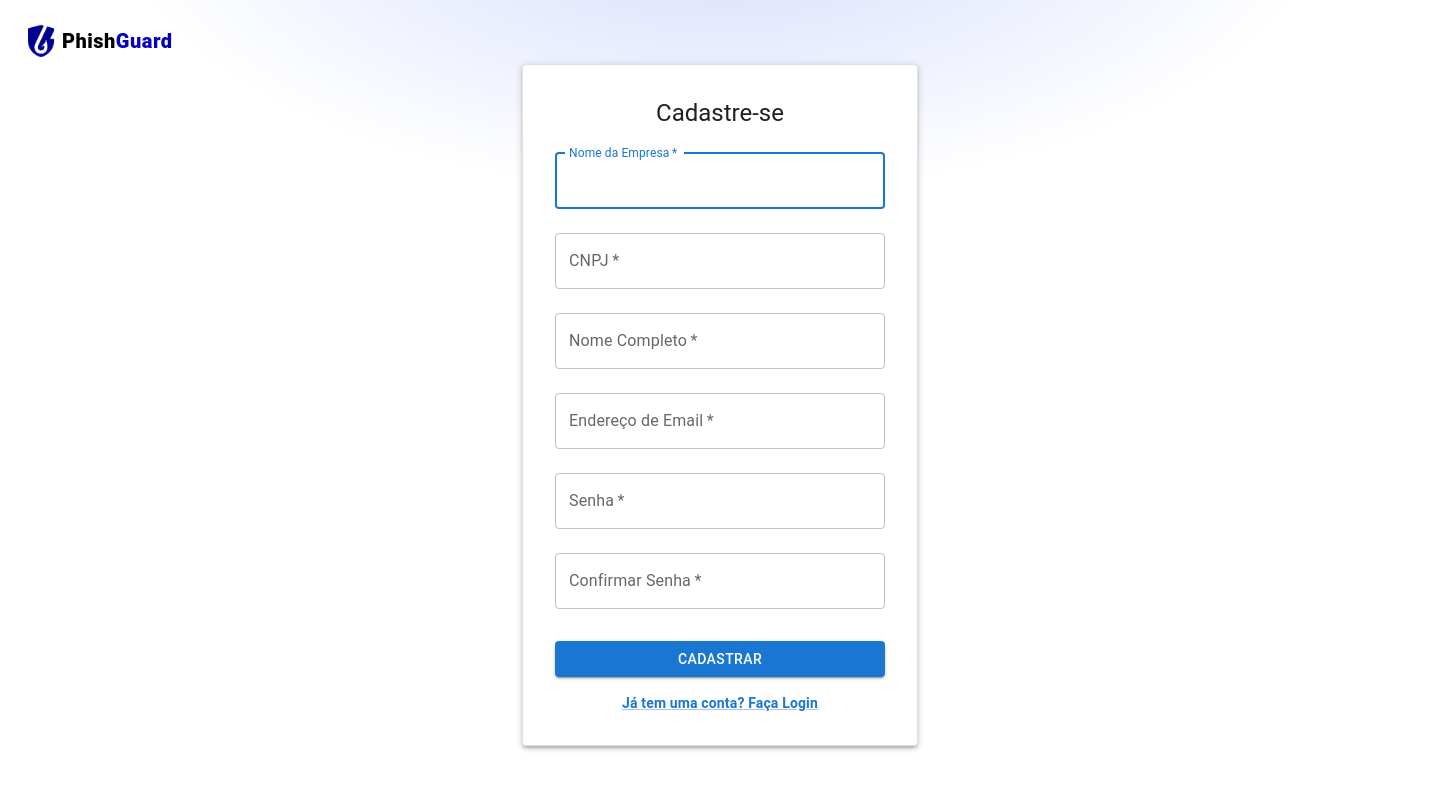
it: Register — falhas da API › não expõe o corpo de uma falha interna
This screenshot has width=1440, height=810.
Type "Empresa Teste" into the field labelled "Nome da Empresa *". click: (720, 181)
box: [555, 153, 885, 209]
Type "12345678000199" into the field labelled "CNPJ *". click: (720, 261)
box: [555, 233, 885, 289]
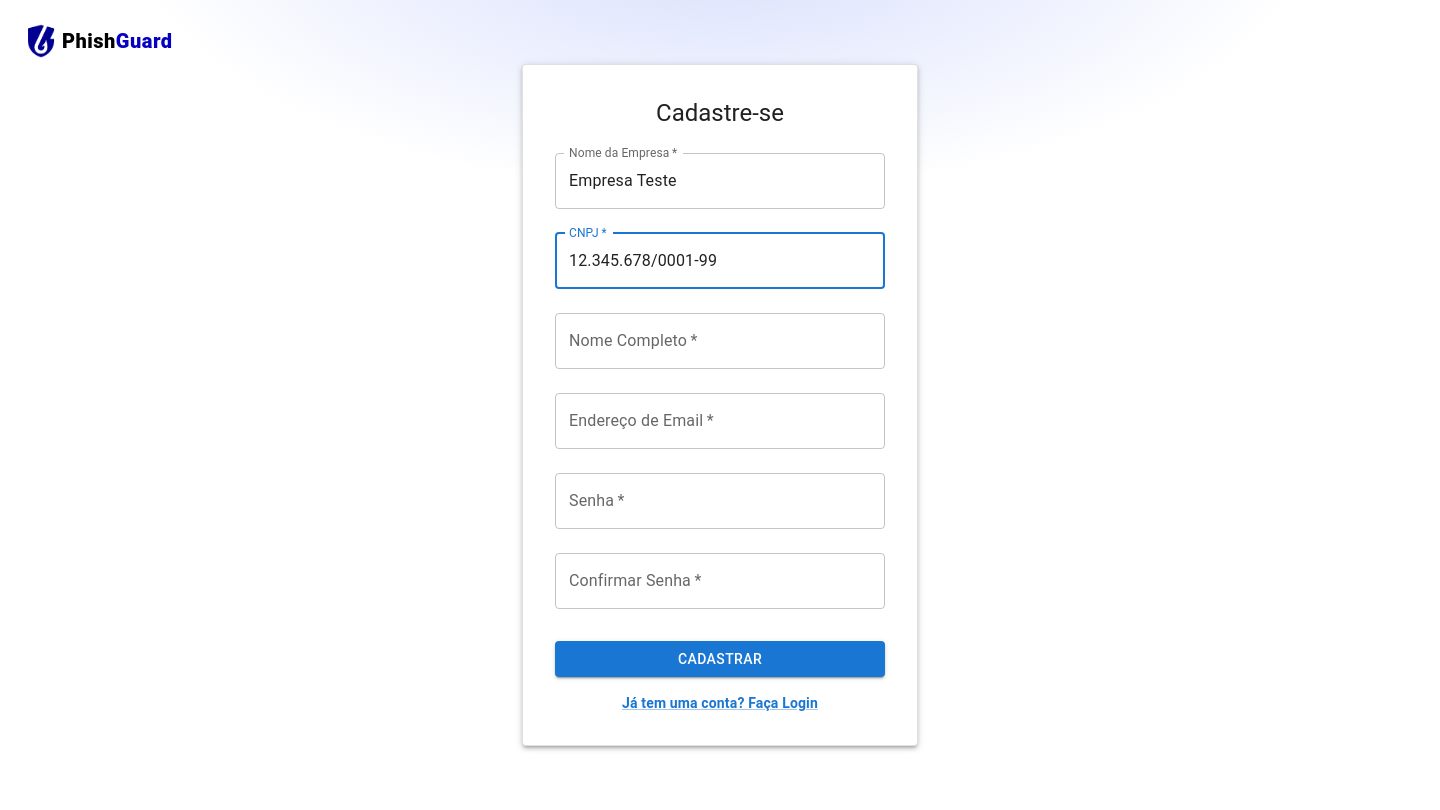
Type "Fulano de Tal" into the field labelled "Nome Completo *". click: (720, 341)
box: [555, 313, 885, 369]
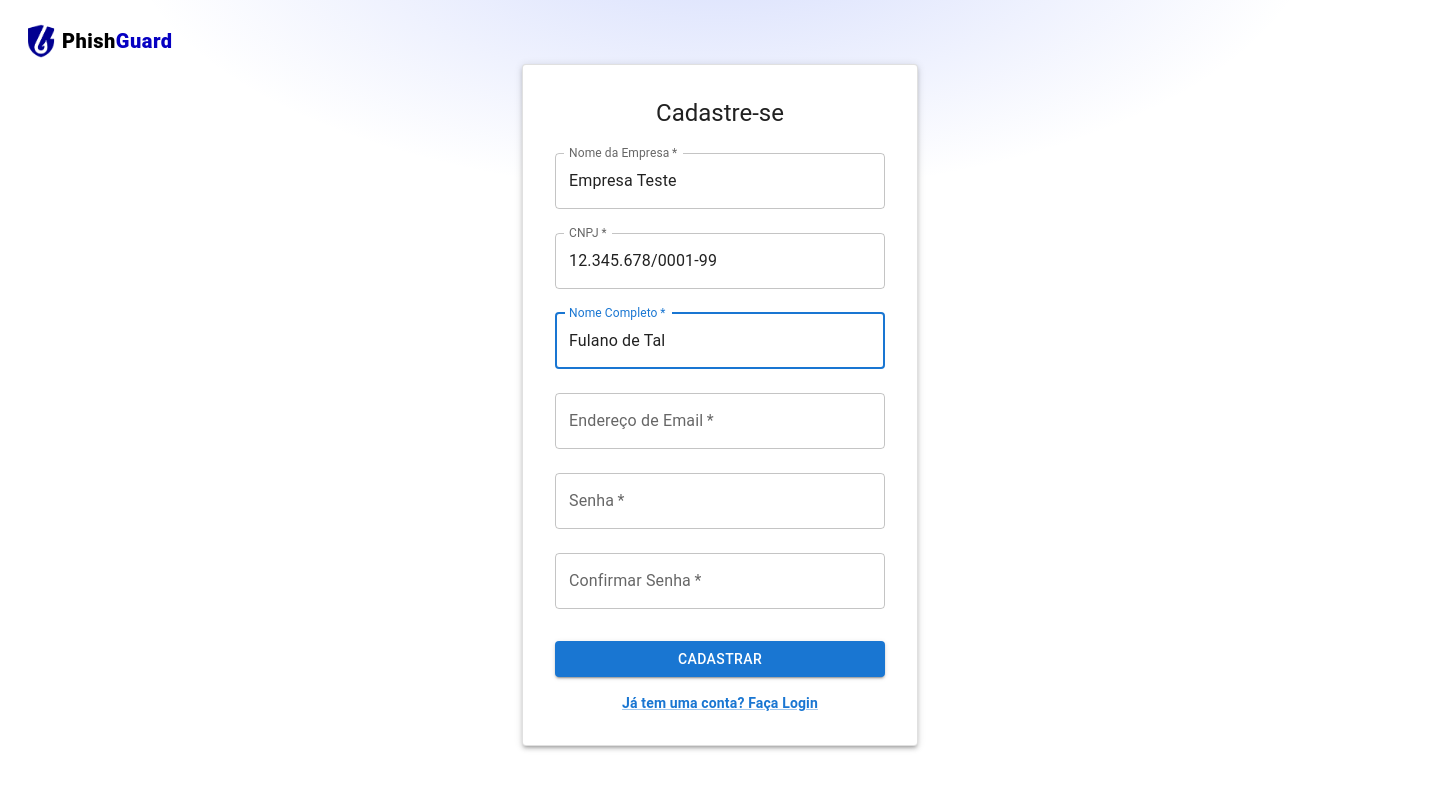
Type "fulano@teste.com" into the field labelled "Endereço de Email *". click: (720, 421)
box: [555, 393, 885, 449]
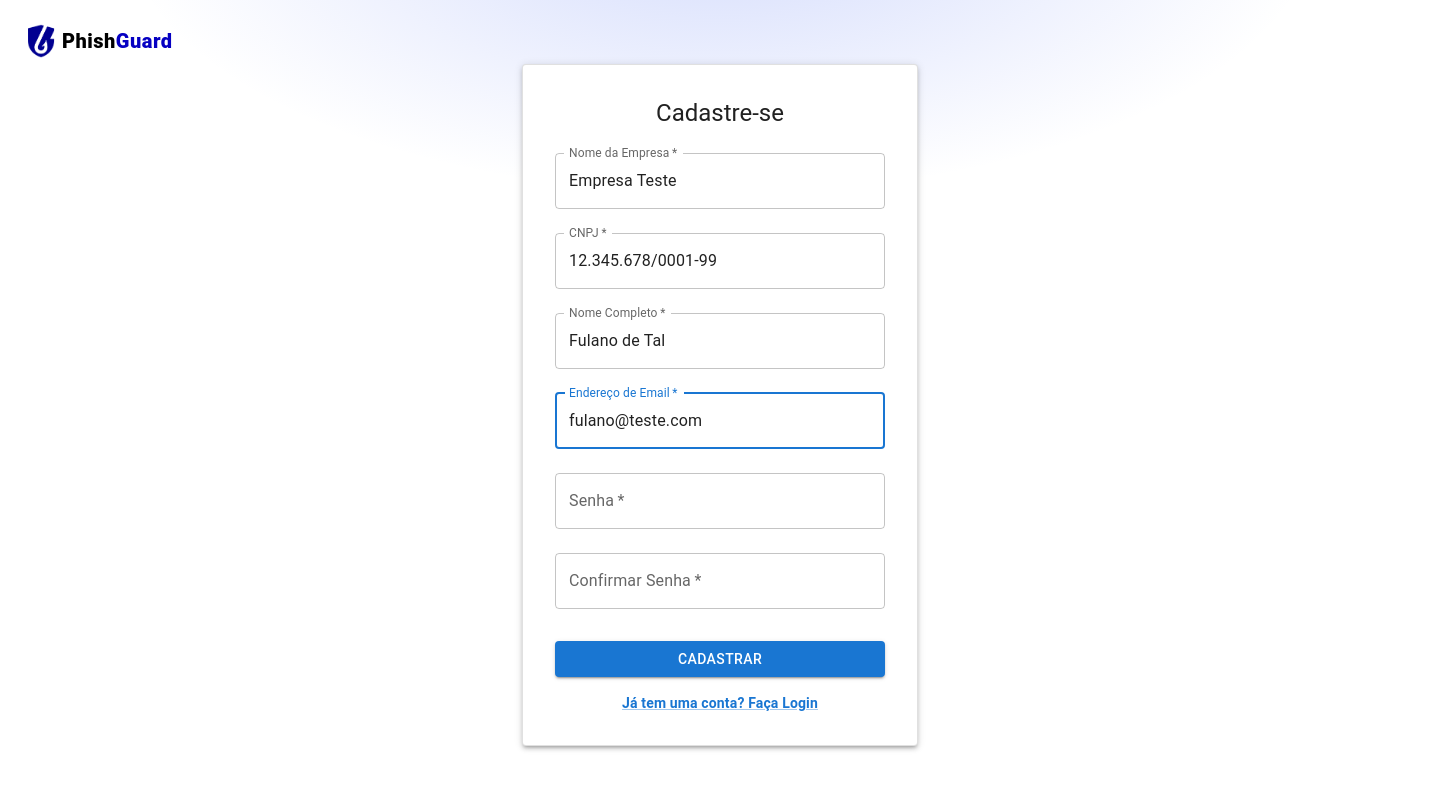
Type "senha123" into the password field labelled "Senha *". click: (720, 501)
box: [555, 473, 885, 529]
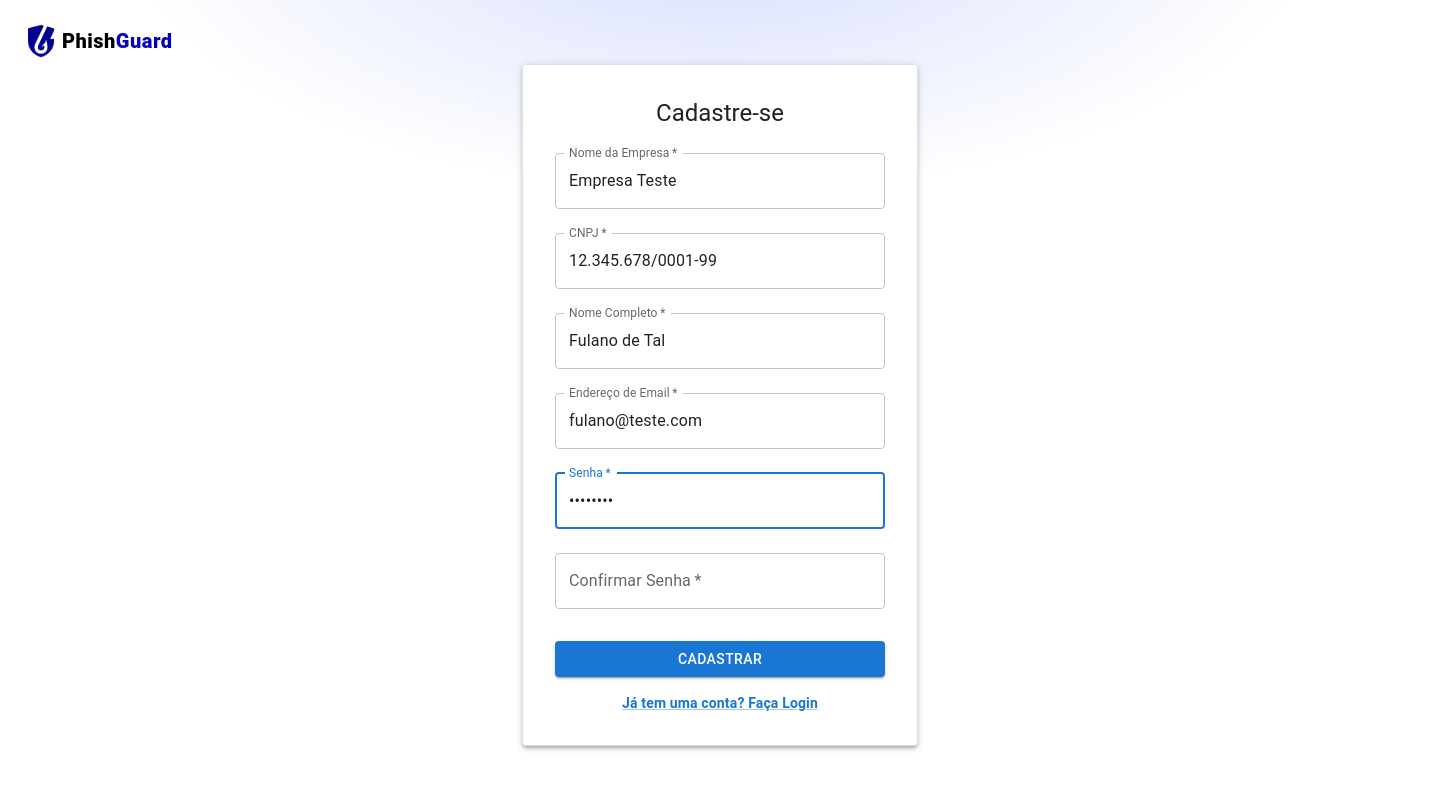
Type "senha123" into the password field labelled "Confirmar Senha *". click: (720, 581)
box: [555, 553, 885, 609]
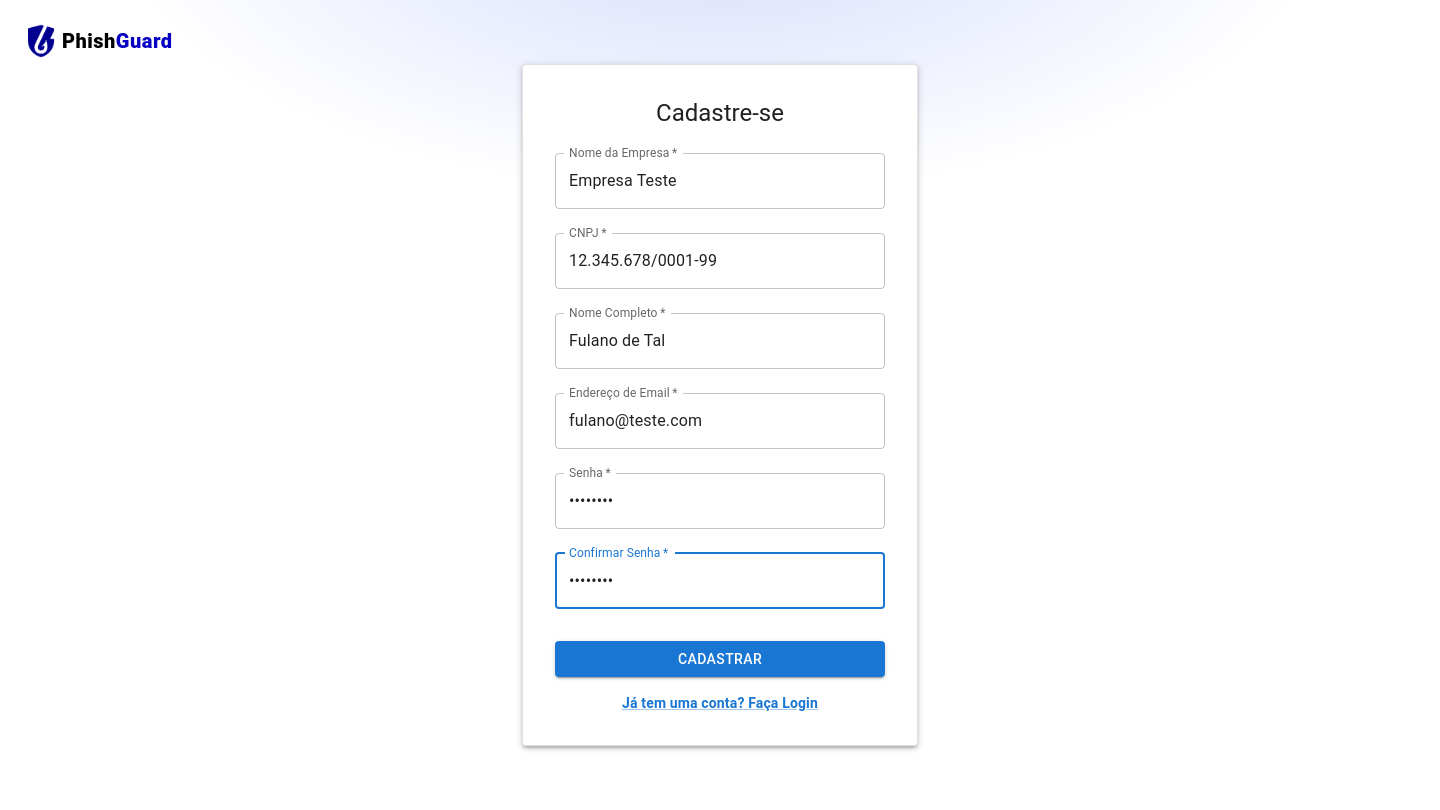
Click the button "CADASTRAR". click: (720, 659)
box: [555, 641, 885, 677]
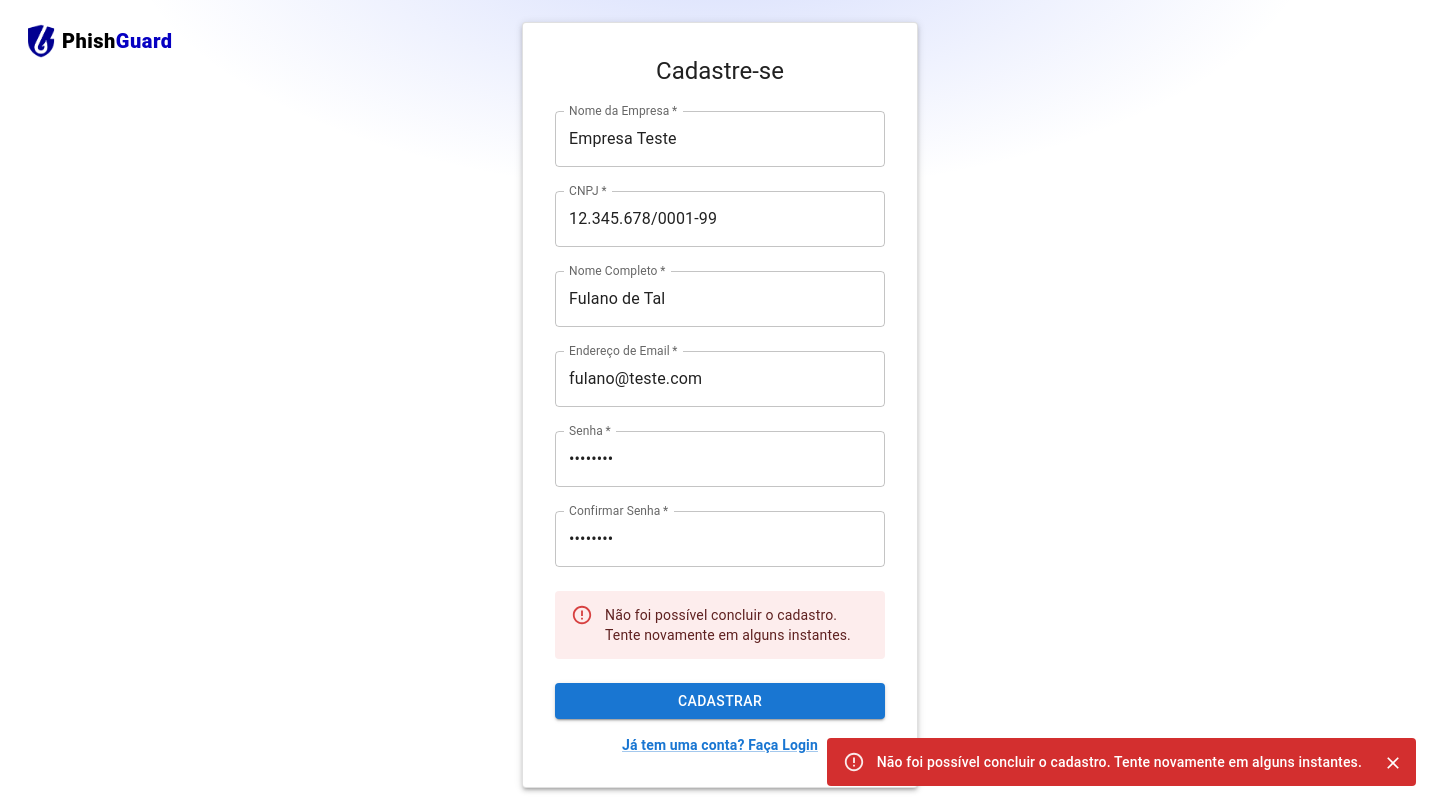
Result: the text "Não foi possível concluir o cadastro" below "Confirmar Senha" is shown at [605, 607, 851, 643]
